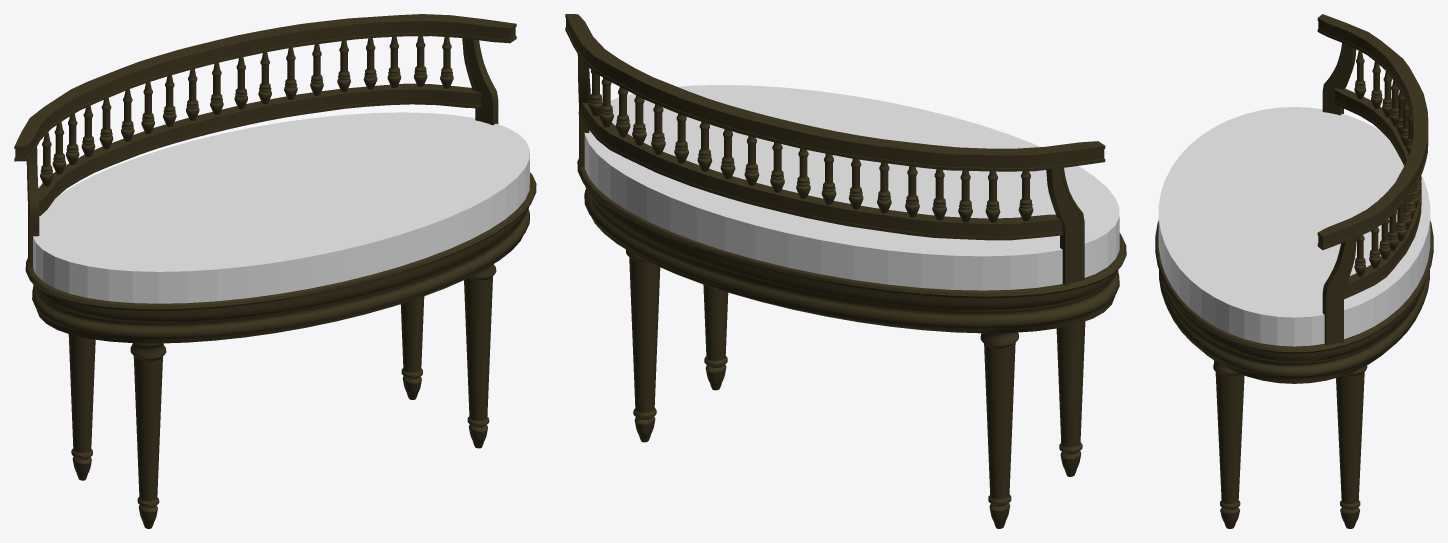
The model's file is SS_Bench01_DF.fbx.
3 renders of one model, left to right at view 1: azimuth 30°, elevation 25°; view 2: azimuth 150°, elevation 25°; view 3: azimuth 270°, elevation 25°, orthographic. The views are drawn at different scales.
Visible parts, largest first — view 1: pCylinder40; view 2: pCylinder40; view 3: pCylinder40.
Part boxes in pixels (x1=…): pCylinder40: x1=14, y1=14, x2=536, y2=528; pCylinder40: x1=565, y1=14, x2=1126, y2=528; pCylinder40: x1=1155, y1=14, x2=1433, y2=528.
Bounding box in the file's own units: 1.47 × 1.02 × 0.7772.
